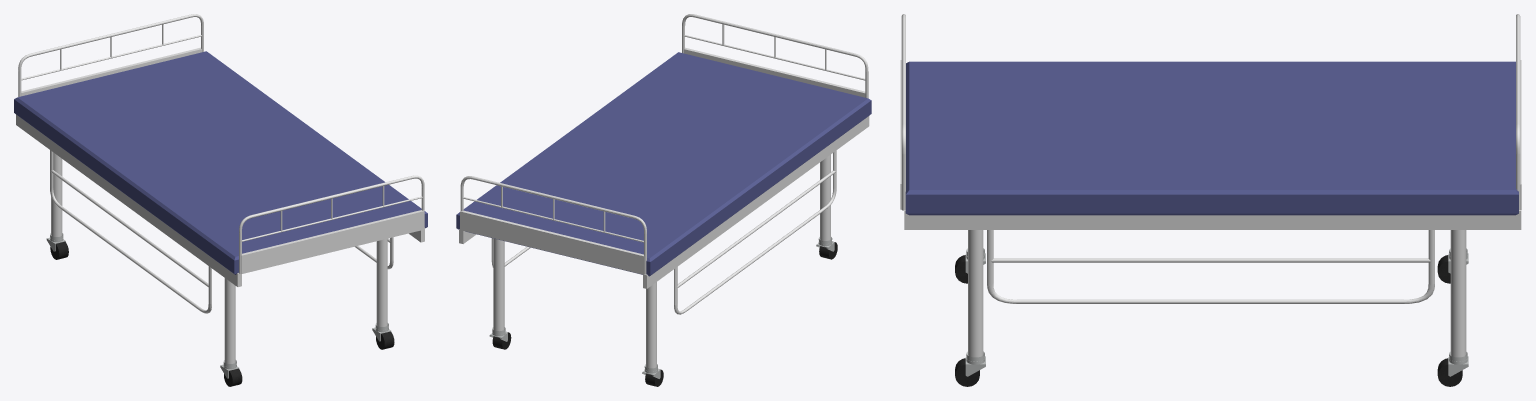
The model's file is hospital_bed.fbx.
The picture shows the model from 3 angles, left to right: view 1: azimuth 30°, elevation 25°; view 2: azimuth 150°, elevation 25°; view 3: azimuth 270°, elevation 25°; orthographic projection. The views are drawn at different scales.
Parts seen in each view (by area): view 1: medical_bed, bed_support3, bed_support2, handleleft, medical_bed_leg5, bed_support, medical_bed_leg6, headpole, feetpole, feetpolemainsupport (×2), medical_bed_leg, poleleft; view 2: medical_bed, bed_support, bed_support2, bed_support3, medical_bed_leg4, handleleft, feetpole, headpole, medical_bed_leg, feetpolemainsupport (×2), medical_bed_leg6, poleleft; view 3: medical_bed, bed_support1, handleright, poleright, medical_bed_leg4, medical_bed_leg5, headpole, feetpole.
Boxes of the visible parts, bbox=[...] form: medical_bed: bbox=[14, 51, 427, 274]; bed_support3: bbox=[241, 210, 424, 273]; bed_support2: bbox=[16, 114, 241, 286]; handleleft: bbox=[50, 150, 211, 313]; medical_bed_leg5: bbox=[376, 238, 387, 326]; bed_support: bbox=[21, 47, 201, 96]; medical_bed_leg6: bbox=[224, 278, 235, 363]; headpole: bbox=[239, 175, 424, 273]; feetpole: bbox=[18, 14, 203, 96]; feetpolemainsupport (×2): bbox=[21, 35, 422, 241]; medical_bed_leg: bbox=[51, 152, 62, 236]; poleleft: bbox=[50, 170, 208, 287]; medical_bed: bbox=[456, 52, 871, 276]; bed_support: bbox=[460, 210, 644, 274]; bed_support2: bbox=[643, 116, 869, 288]; bed_support3: bbox=[684, 47, 865, 97]; medical_bed_leg4: bbox=[493, 238, 504, 331]; handleleft: bbox=[674, 150, 836, 314]; feetpole: bbox=[460, 176, 646, 274]; headpole: bbox=[682, 14, 868, 98]; medical_bed_leg: bbox=[646, 282, 656, 368]; feetpolemainsupport (×2): bbox=[463, 35, 865, 242]; medical_bed_leg6: bbox=[820, 154, 830, 240]; poleleft: bbox=[677, 170, 835, 287]; medical_bed: bbox=[905, 61, 1518, 215]; bed_support1: bbox=[904, 210, 1521, 229]; handleright: bbox=[987, 230, 1434, 303]; poleright: bbox=[990, 258, 1431, 262]; medical_bed_leg4: bbox=[1450, 230, 1466, 357]; medical_bed_leg5: bbox=[968, 230, 983, 357]; headpole: bbox=[901, 14, 905, 210]; feetpole: bbox=[1516, 14, 1520, 210].
Bounding box in the file's own units: 100 × 92.72 × 200.
2 materials, 1 textured.
